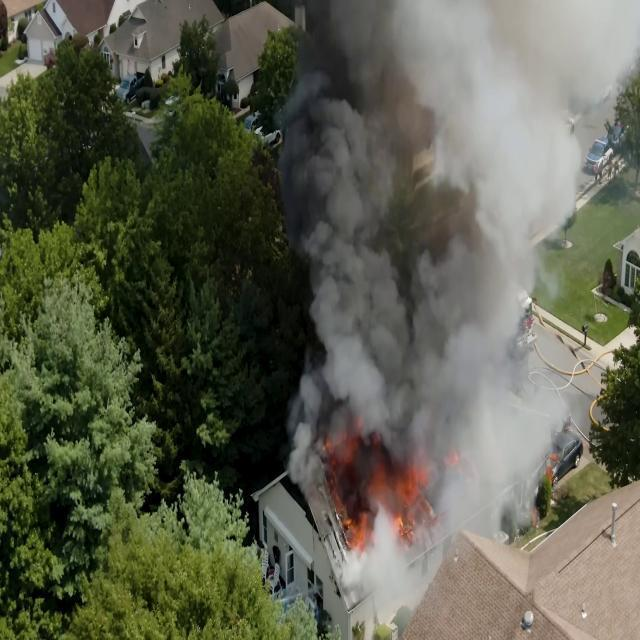Fire: (329, 420, 418, 526)
Smoke: (292, 75, 395, 411), (431, 251, 509, 464)
